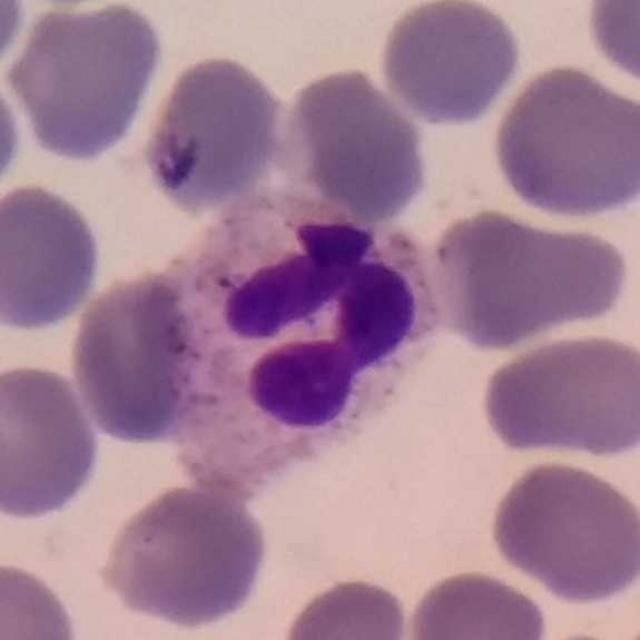Neutrophil: (95, 195, 465, 496)
RBC: (424, 204, 633, 353), (1, 0, 169, 166), (66, 266, 212, 449), (94, 481, 272, 631), (277, 61, 434, 225), (139, 50, 291, 217), (487, 59, 639, 224), (485, 456, 640, 606), (476, 328, 640, 463), (374, 0, 526, 129), (0, 359, 106, 523), (0, 178, 107, 336), (402, 565, 552, 640), (276, 573, 416, 640), (0, 554, 83, 639), (581, 0, 640, 91), (0, 69, 26, 205), (0, 0, 29, 78)
